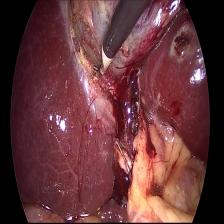Hook: (92, 37, 114, 78)
